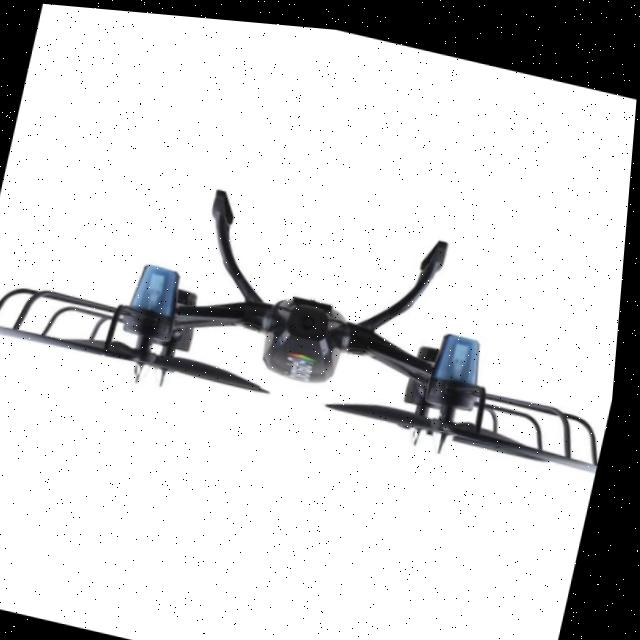drones: (0, 134, 631, 481)
